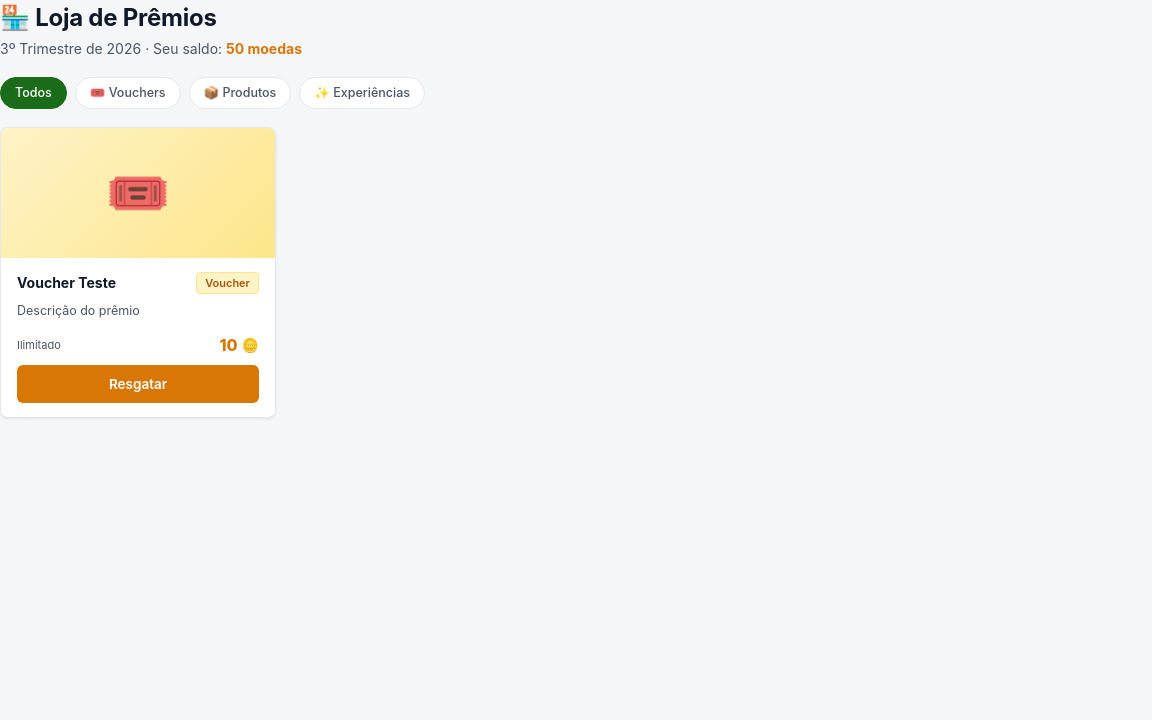
LojaPage — modal de resgate › clicar em Resgatar abre o modal de confirmação
The width and height of the screenshot is (1152, 720).
Click the button "Resgatar": (138, 384) [17,365,259,403]
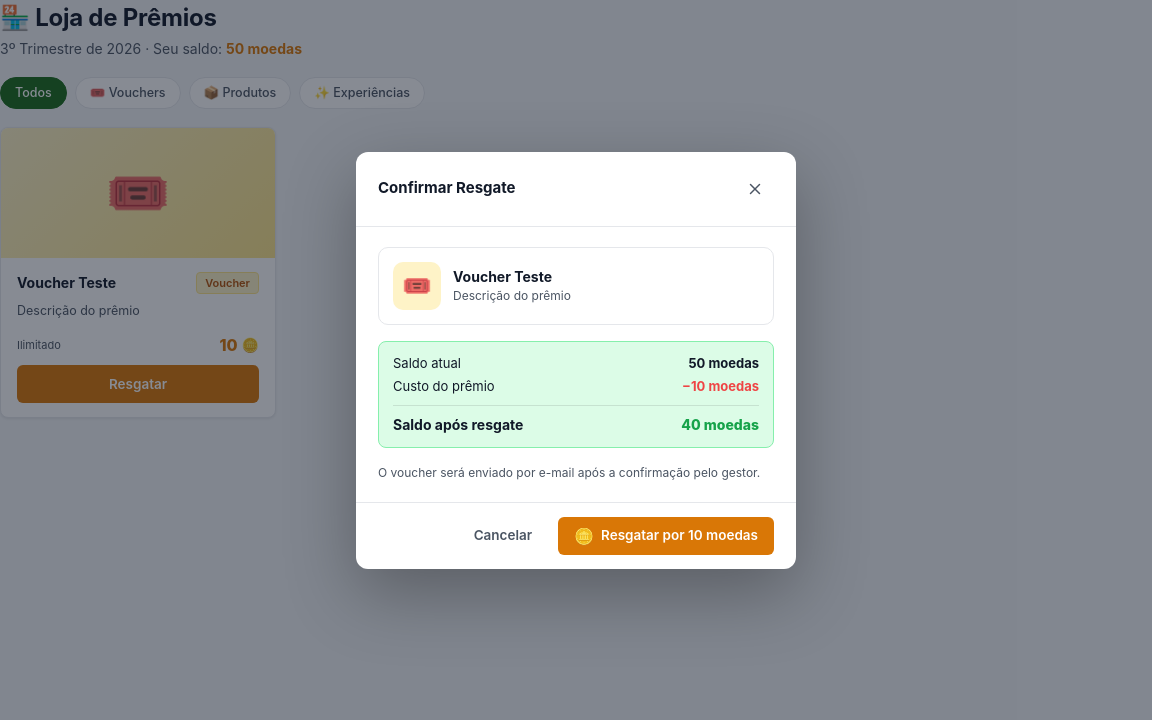
Check: the 1st text "Voucher Teste" is shown, box [17,272,116,293]
Check: the heading "Confirmar Resgate" is shown, box [378,177,516,200]
